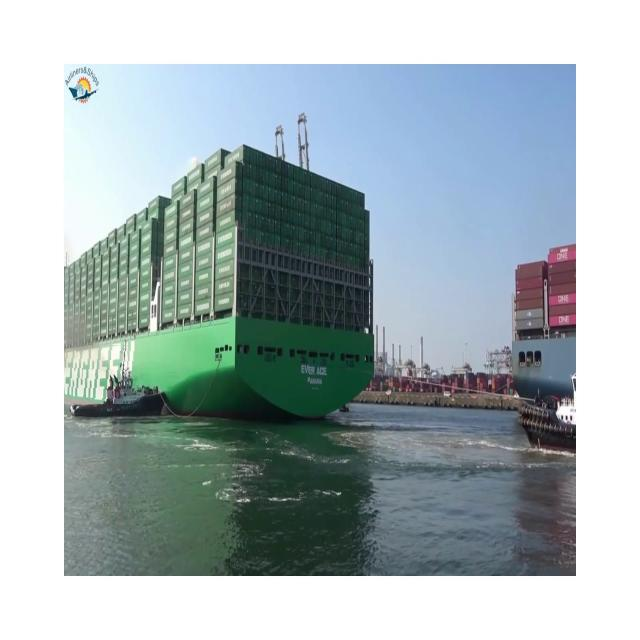OCR: (65, 343, 143, 404), (296, 350, 332, 402)
